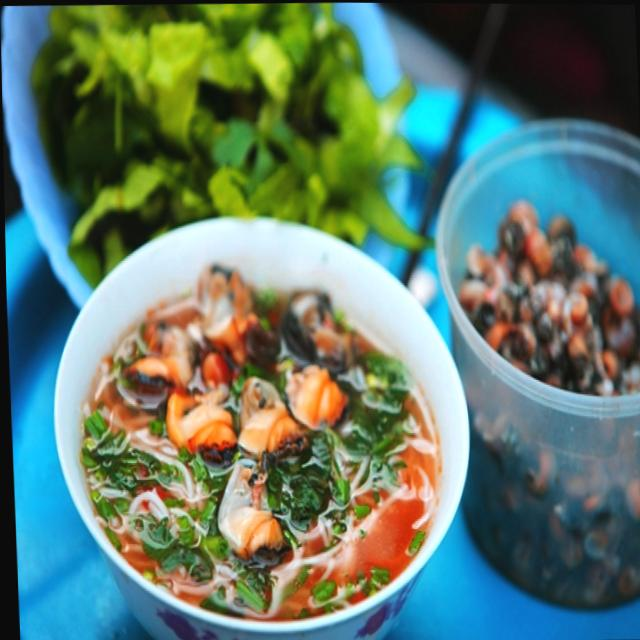面条主食: (18, 0, 640, 632)
